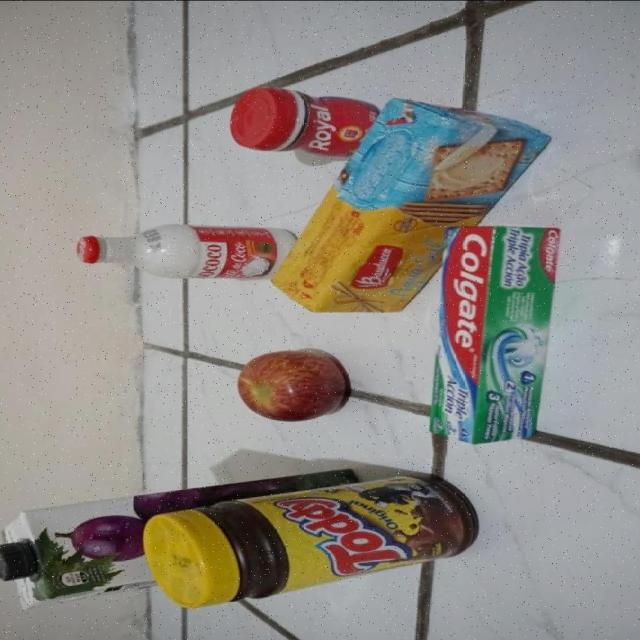Apple: (238, 348, 348, 423)
ChocolatePowder: (143, 472, 480, 610)
CoconutMilk: (76, 223, 298, 278)
Cracker: (272, 95, 556, 314)
Toothpaste: (429, 225, 570, 443)
Yeast: (229, 86, 379, 153)
